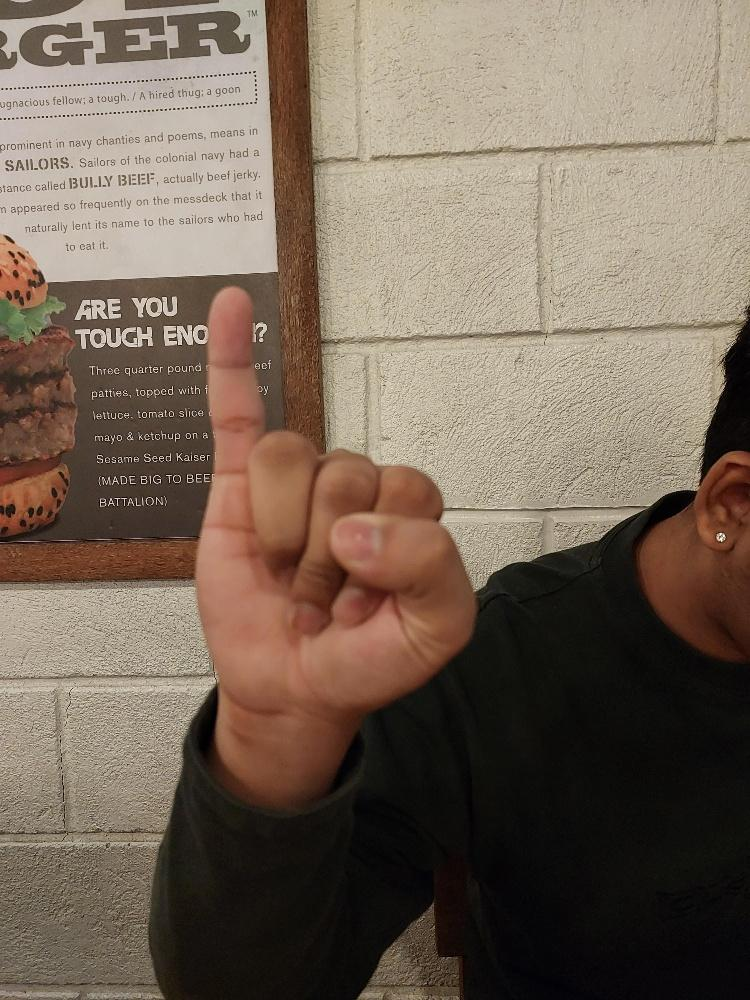i: (192, 283, 480, 725)
